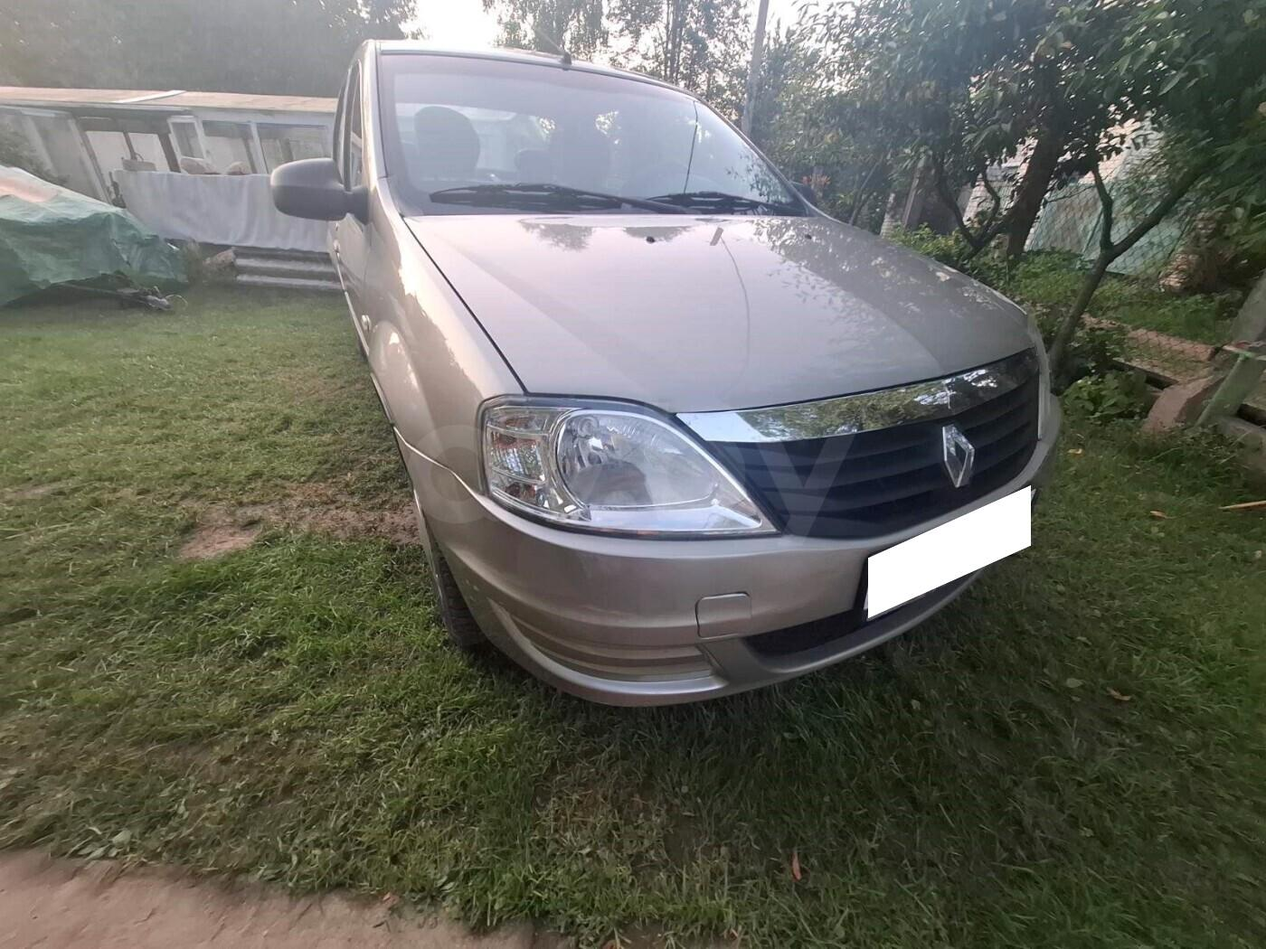Logan_2008-2015: (297, 27, 1080, 715)
